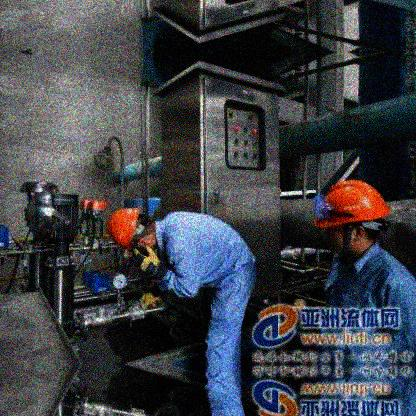helmet: (312, 179, 391, 255), (107, 207, 158, 253)
